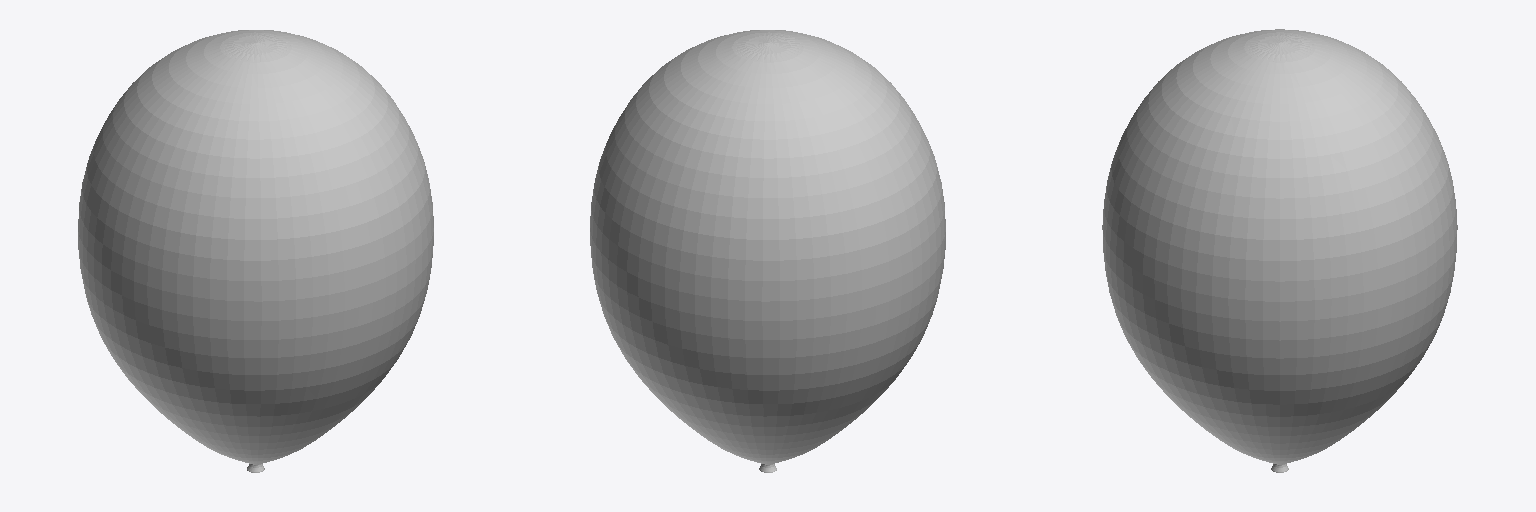
File: Globo22.obj
The picture shows the model from 3 angles: view 1: azimuth 30°, elevation 25°; view 2: azimuth 150°, elevation 25°; view 3: azimuth 270°, elevation 25°; orthographic projection.
Visible parts, largest first — view 1: Sphere.018; view 2: Sphere.018; view 3: Sphere.018.
Boxes of the visible parts, <box> form: Sphere.018: <box>78,30,433,472</box>; Sphere.018: <box>590,30,945,472</box>; Sphere.018: <box>1102,29,1457,472</box>.
Size of the model in its own units: 0.5211 by 0.688 by 0.519.